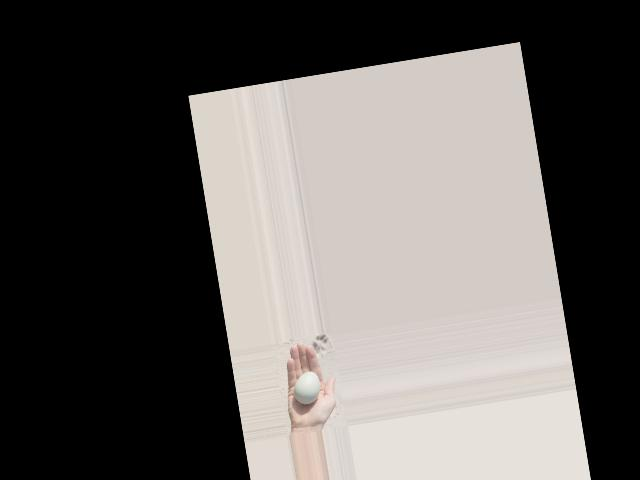egg: (290, 369, 322, 405)
